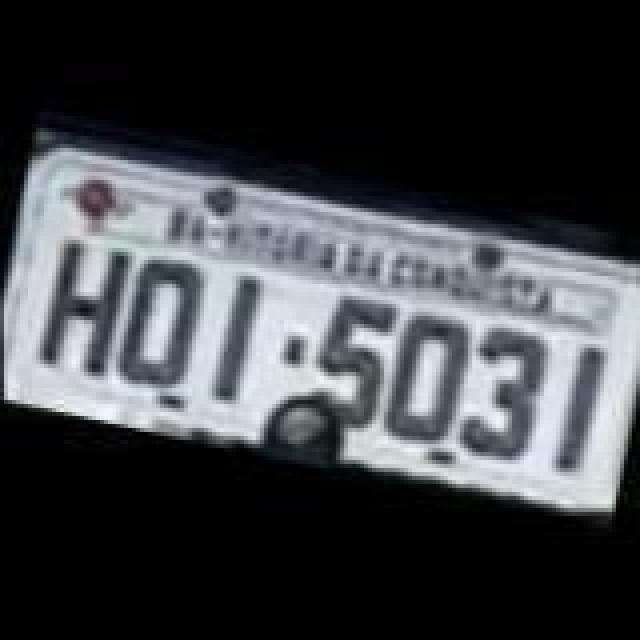1: (542, 340, 618, 476), (200, 268, 268, 408)
3: (446, 314, 554, 462)
5: (296, 290, 404, 438)
H: (30, 232, 134, 384)
O: (372, 306, 484, 458), (112, 250, 212, 394)
